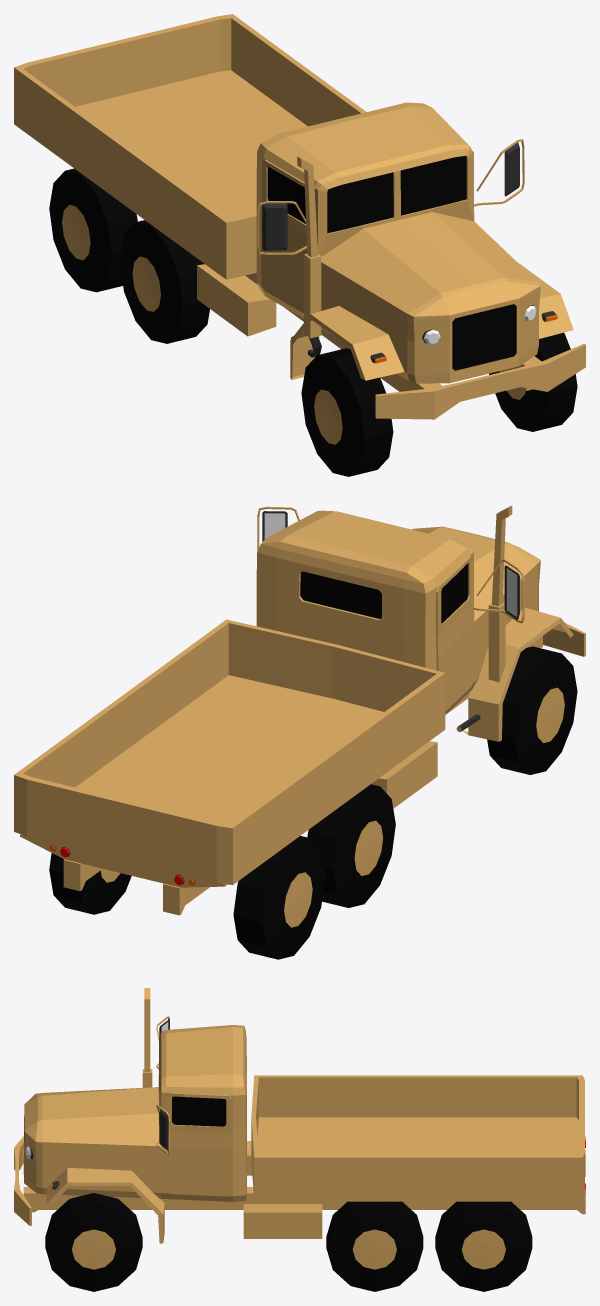
3 renders of one model, top to bottom at view 1: azimuth 30°, elevation 25°; view 2: azimuth 150°, elevation 25°; view 3: azimuth 270°, elevation 25°, orthographic. The views are drawn at different scales.
Parts seen in each view (by area): view 1: Plane.015, Plane.033, Cylinder.031, Cylinder.029, Cylinder.030, Plane.035, Cylinder.028, Cylinder.034; view 2: Plane.015, Plane.033, Cylinder.030, Cylinder.031, Cylinder.029, Plane.035, Cylinder.033, Cylinder.034; view 3: Plane.015, Cylinder.028, Cylinder.032, Cylinder.033, Plane.036, Cylinder.034, Plane.033.
Boxes of the visible parts, x1,y1,x2,y2 form: Plane.015: (14, 14, 585, 419); Plane.033: (27, 16, 220, 106); Cylinder.031: (301, 348, 393, 476); Cylinder.029: (119, 220, 209, 343); Cylinder.030: (49, 168, 137, 292); Plane.035: (261, 160, 307, 313); Cylinder.028: (489, 332, 577, 431); Cylinder.034: (290, 156, 321, 357); Plane.015: (14, 506, 585, 915); Plane.033: (27, 777, 219, 882); Cylinder.030: (233, 836, 325, 959); Cylinder.031: (487, 646, 577, 774); Cylinder.029: (307, 784, 395, 907); Plane.035: (436, 556, 473, 710); Cylinder.033: (49, 853, 131, 914); Cylinder.034: (456, 505, 512, 731); Plane.015: (14, 1016, 585, 1243); Cylinder.028: (45, 1193, 142, 1291); Cylinder.032: (326, 1201, 423, 1291); Cylinder.033: (435, 1201, 532, 1291); Plane.036: (166, 1093, 232, 1196); Cylinder.034: (142, 988, 152, 1087); Plane.033: (579, 1080, 584, 1152).
Bounding box in the file's own units: 293 × 303 × 702.
